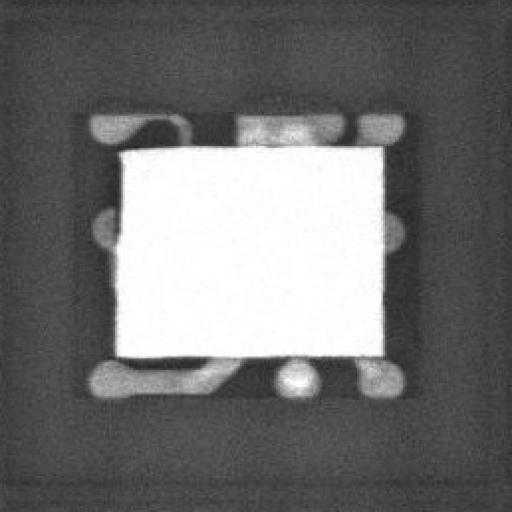DIE_BROKEN: (109, 154, 123, 235)
